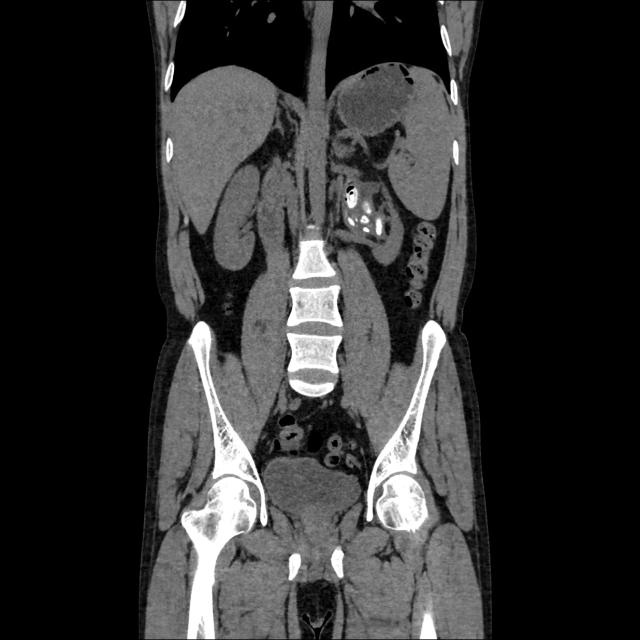kidneystone: (346, 185, 358, 208), (376, 218, 382, 235), (362, 201, 370, 213), (360, 215, 369, 225), (348, 218, 354, 227), (362, 227, 370, 232)
